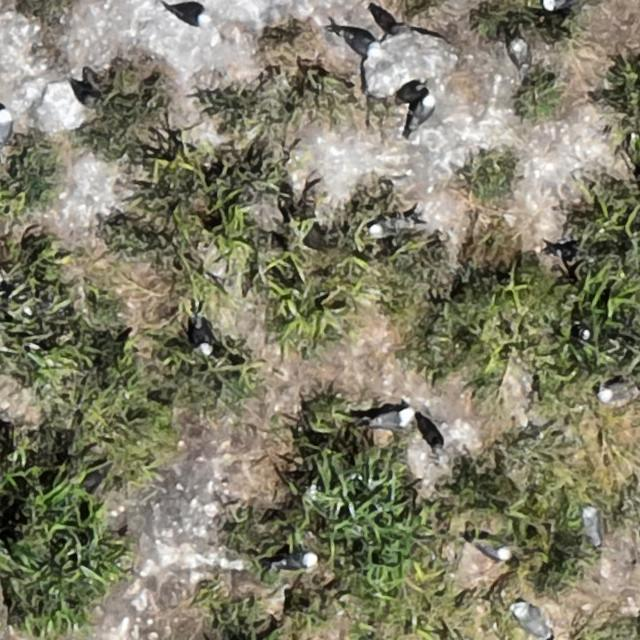umineko: (511, 602, 553, 637), (336, 28, 382, 59), (407, 94, 435, 134), (368, 214, 416, 237), (372, 406, 414, 428), (173, 2, 212, 25), (275, 552, 317, 570), (510, 36, 530, 71), (600, 384, 634, 404), (584, 508, 601, 546), (193, 320, 211, 355), (476, 542, 509, 560), (0, 111, 10, 142), (542, 0, 570, 9)
